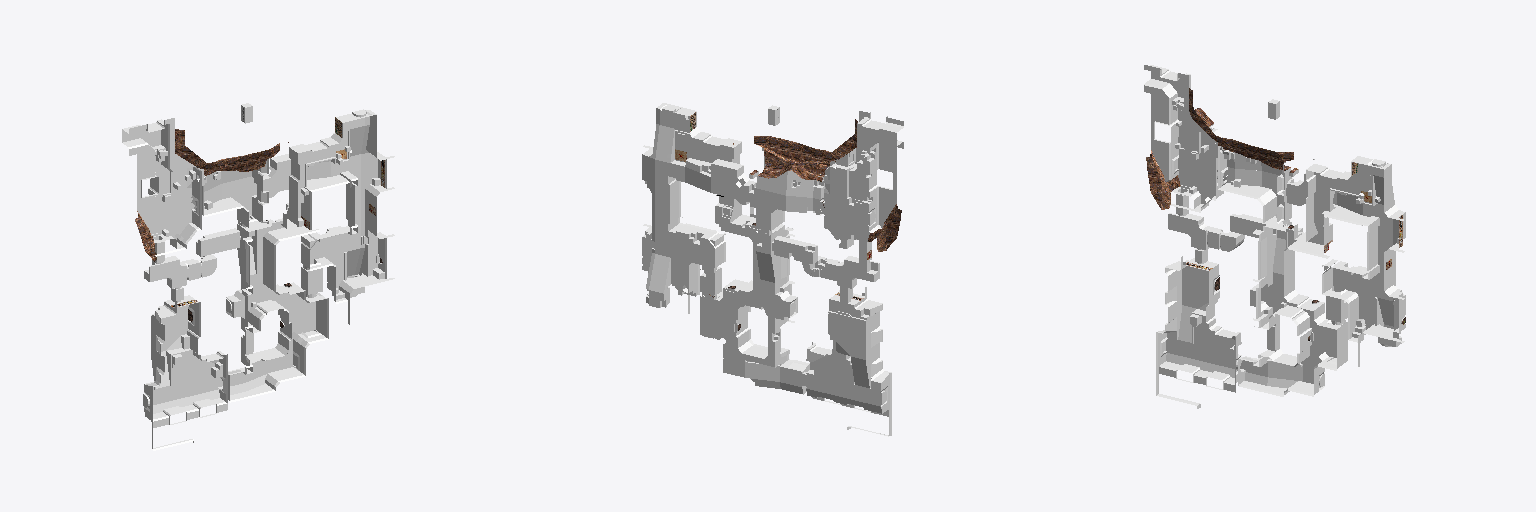
3 views of the same model, side by side, from view 1: azimuth 30°, elevation 25°; view 2: azimuth 150°, elevation 25°; view 3: azimuth 330°, elevation 25° (orthographic).
Parts seen in each view (by area): view 1: BSP_Object.model_0; view 2: BSP_Object.model_0; view 3: BSP_Object.model_0.
Part boxes in pixels (x1,y1,x2,y2): BSP_Object.model_0: (122, 103, 394, 450); BSP_Object.model_0: (642, 103, 903, 436); BSP_Object.model_0: (1144, 65, 1405, 408).
Bounding box in the file's own units: 4480 × 5312 × 608.
14 materials, 13 textured.